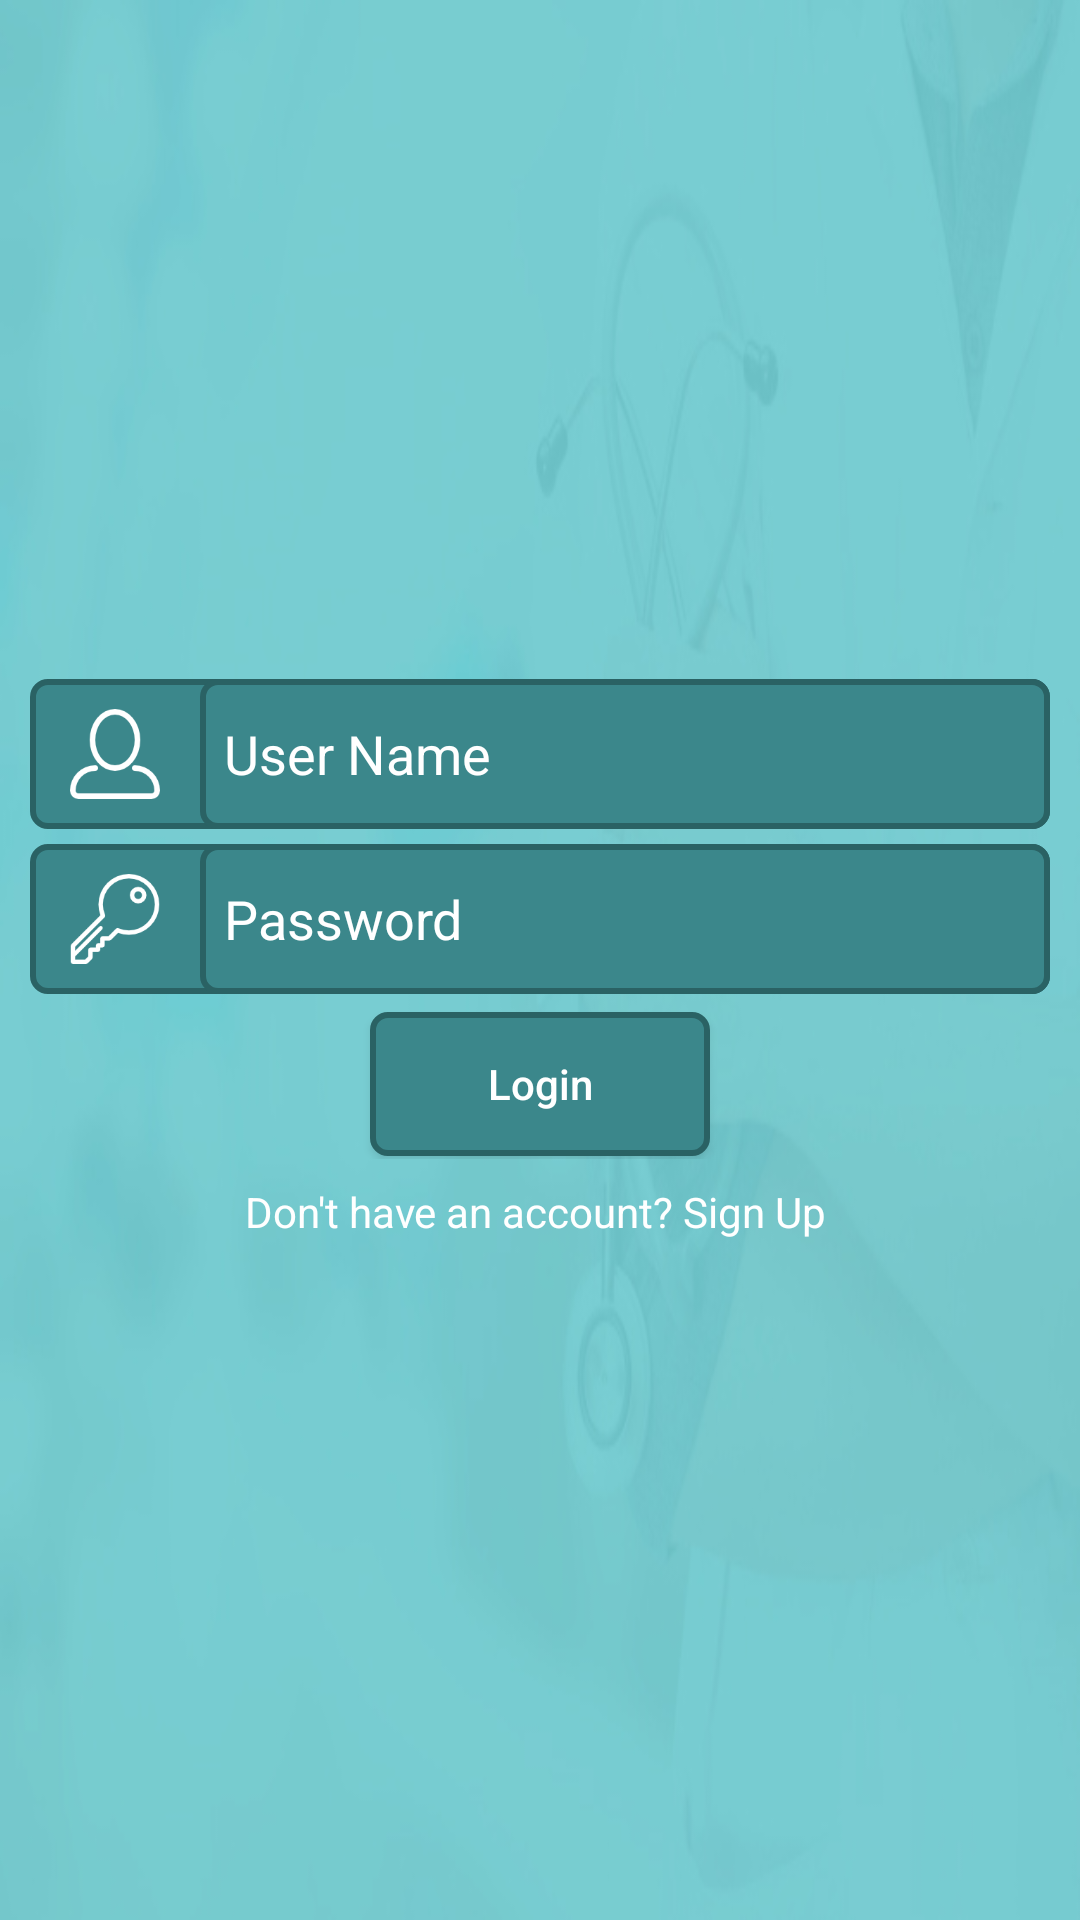

Icons on this 1080×1920 Android screen, each with the point to tap as point (x, y):
key: point (115, 919)
